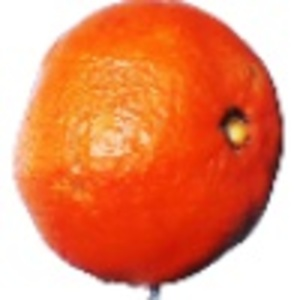tangerina: (12, 1, 287, 300)
